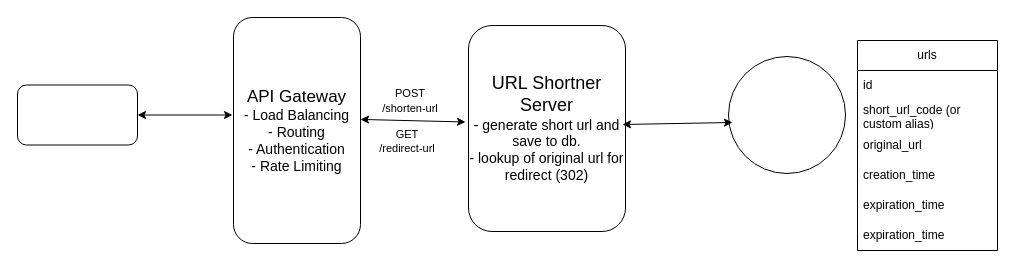
The diagram is 1015 pixels wide and 268 high, and some of its shapes have lost their labels. The shapes that lost their labels are listed below. From the top down, each one's centre as x and y in pixels, then its label:
At (77,114): "Client".
At (787,115): "Database".
